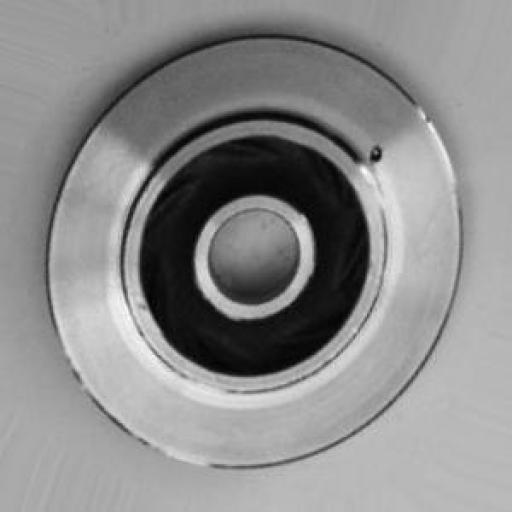defect: (361, 132, 396, 179)
